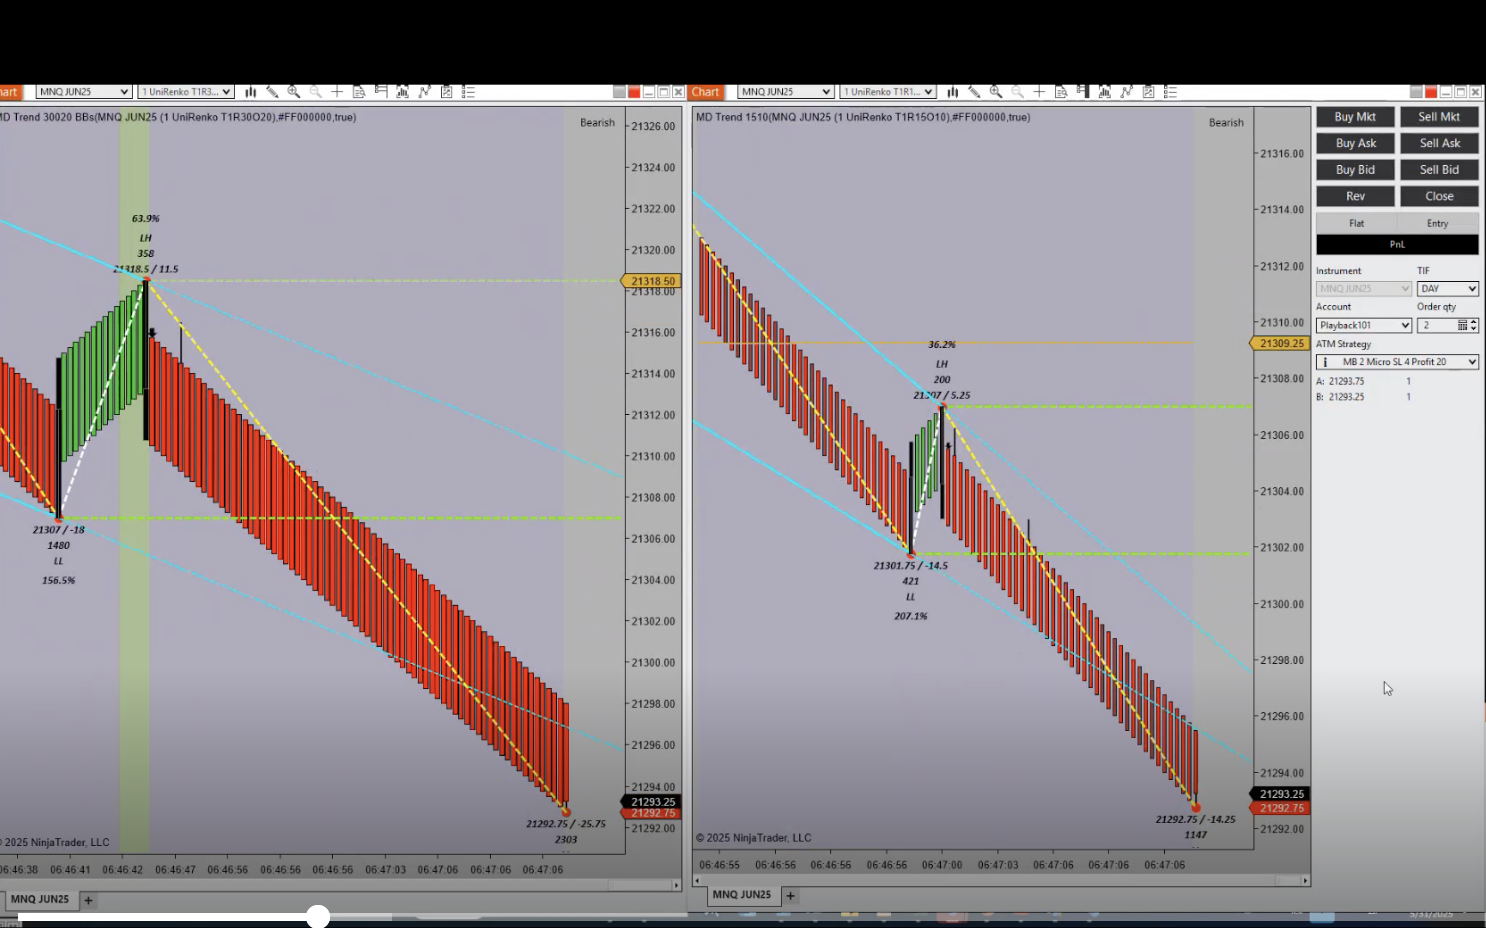candle: (141, 279, 153, 445), (55, 358, 64, 525), (938, 407, 947, 524), (909, 443, 915, 564)
